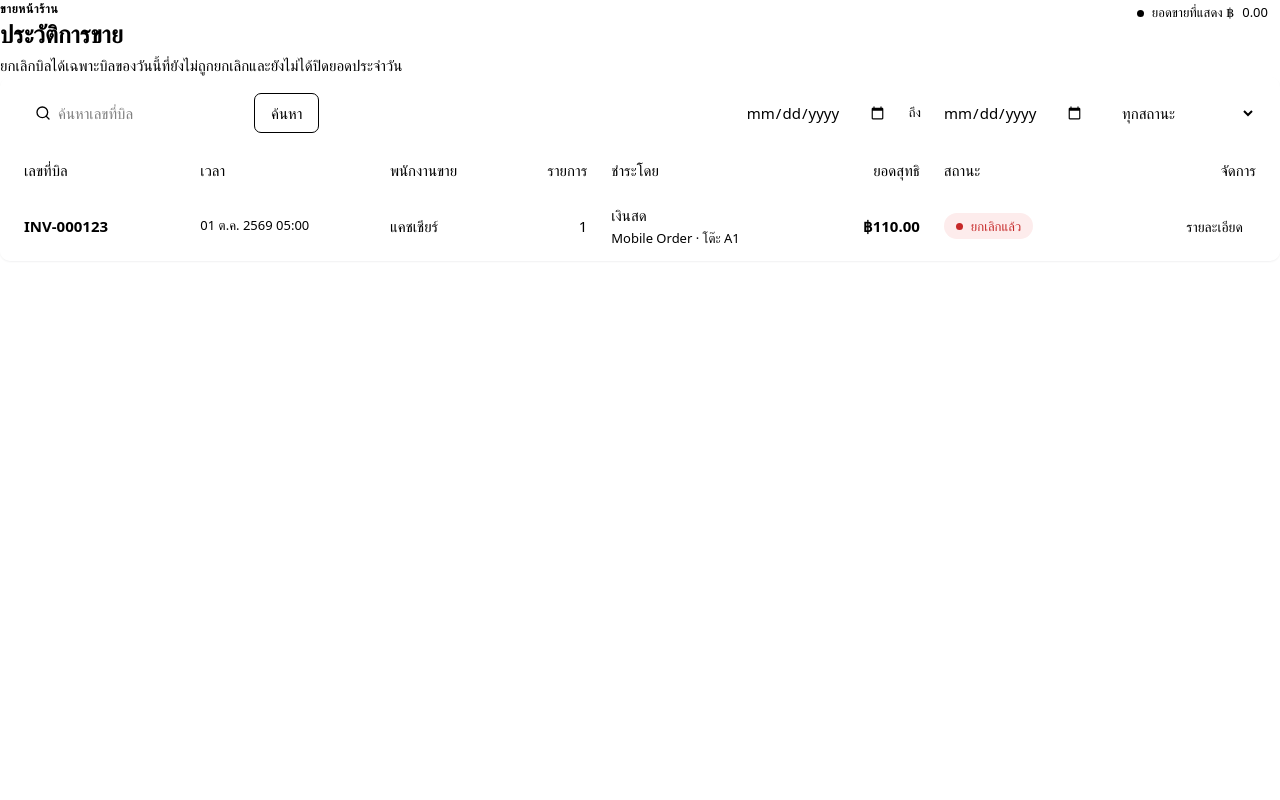
Scenario: พิมพ์ใบเสร็จซ้ำ › บิลที่ยกเลิกแล้วขึ้นป้ายยกเลิกบนใบ
This screenshot has width=1280, height=800.
Click the button "รายละเอียด": (1215,226) [1173,210,1256,242]
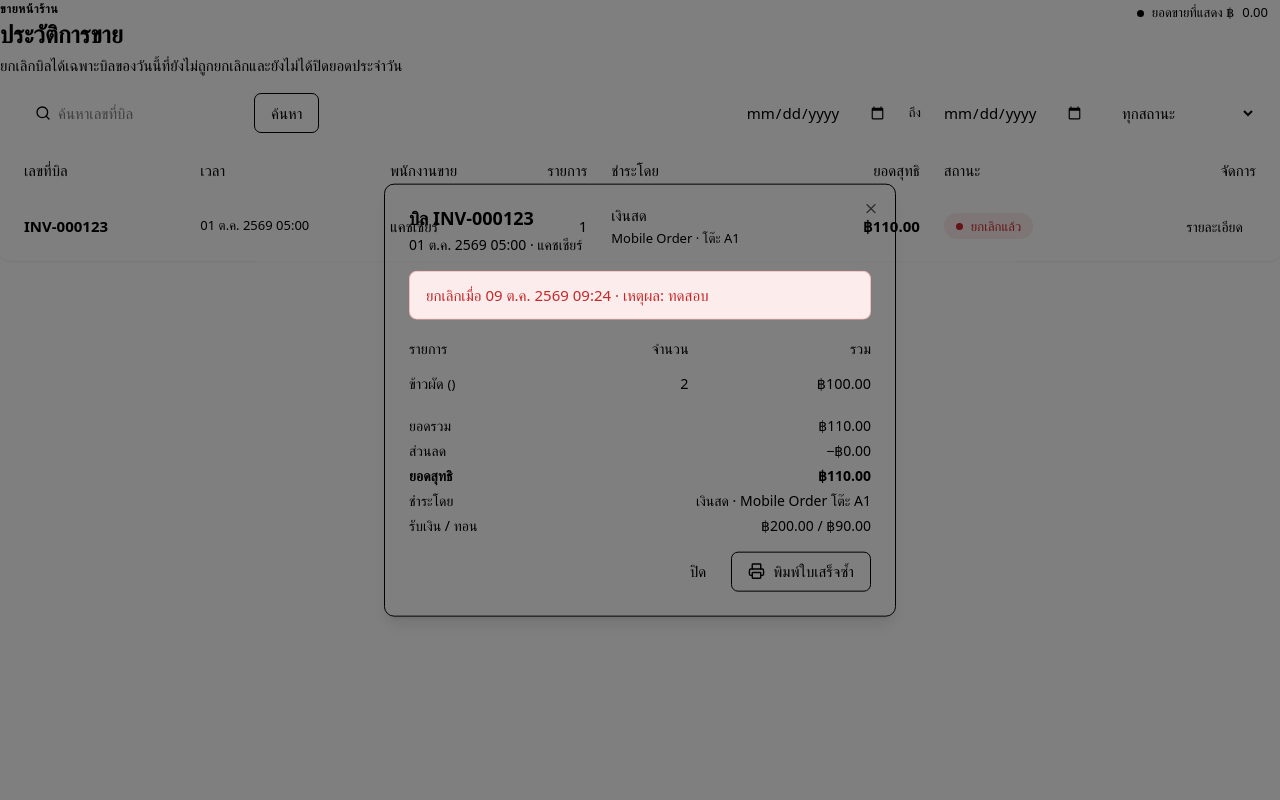
Click the button "พิมพ์ใบเสร็จซ้ำ": (801,571) [731,551,871,591]
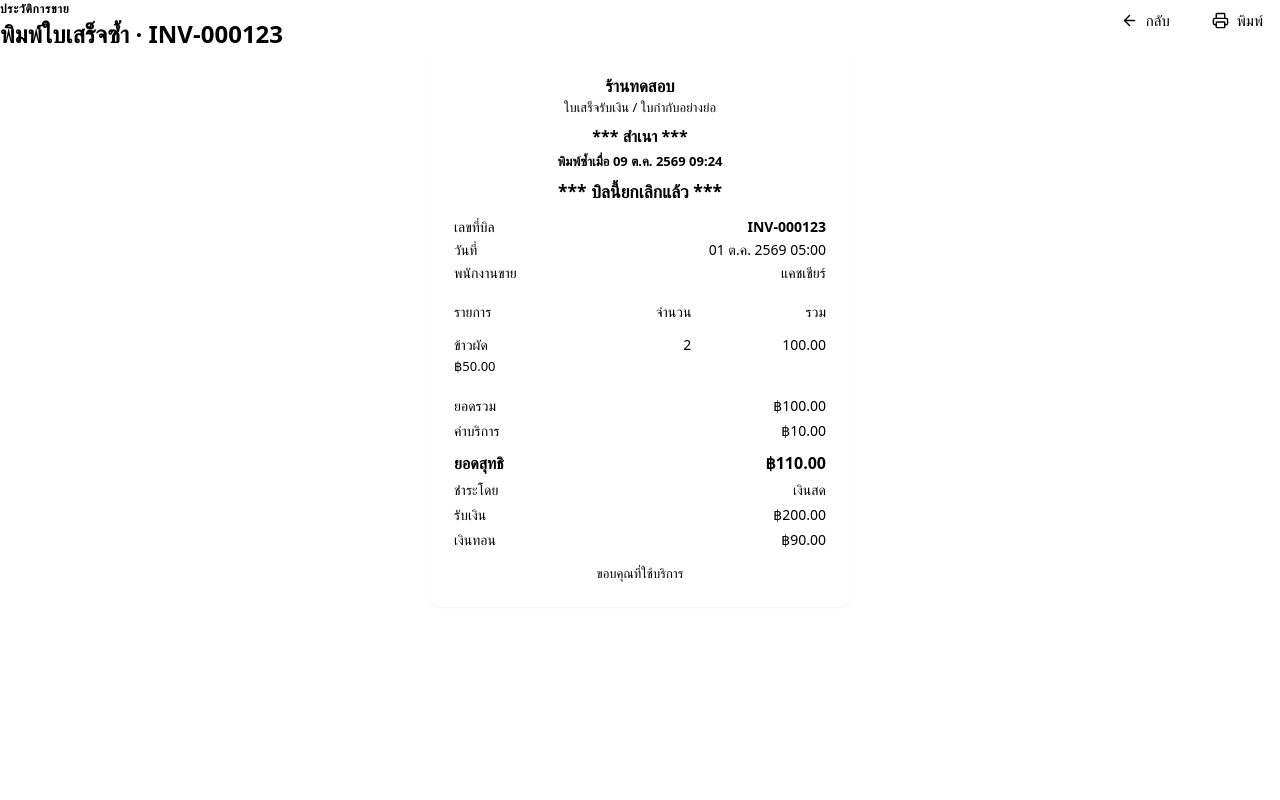
Check: the text "*** บิลนี้ยกเลิกแล้ว ***" is shown, box [558,179,722,203]
